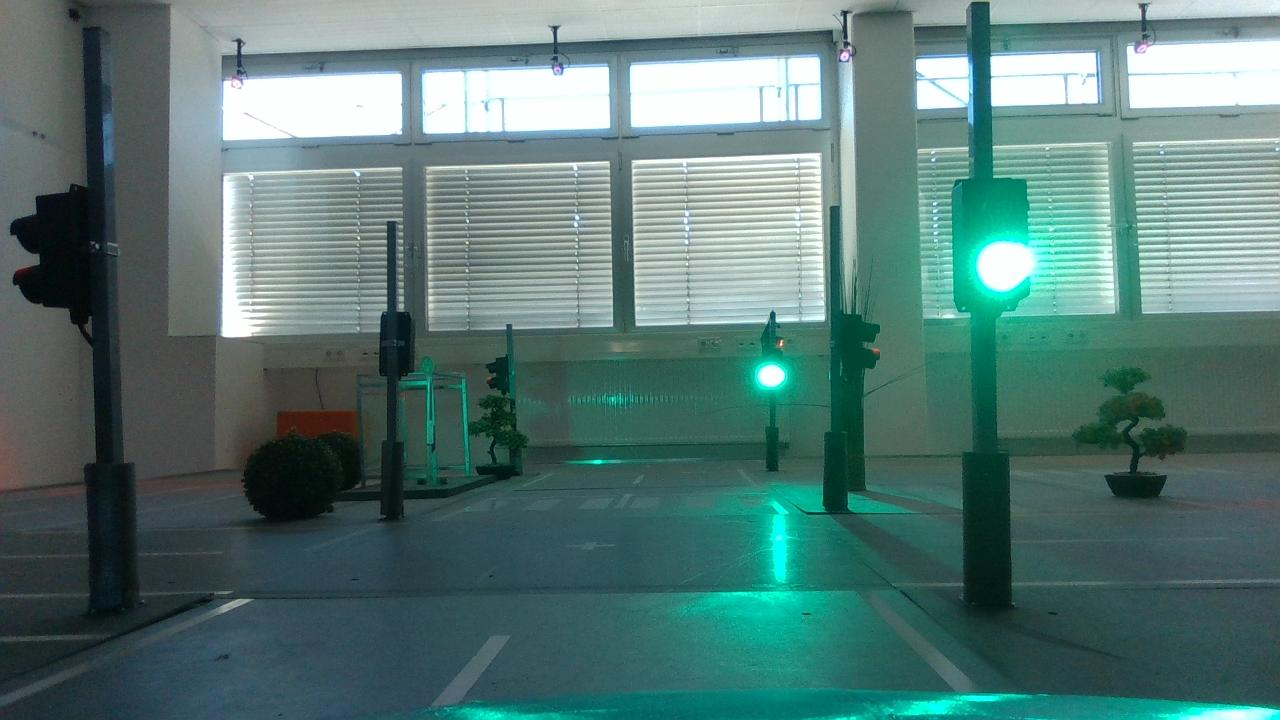traffic_light_green: (935, 163, 1047, 323)
